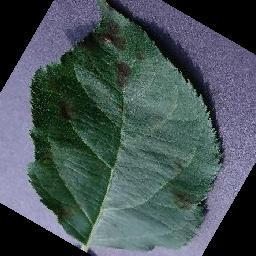apple healthy: (25, 0, 226, 255)
